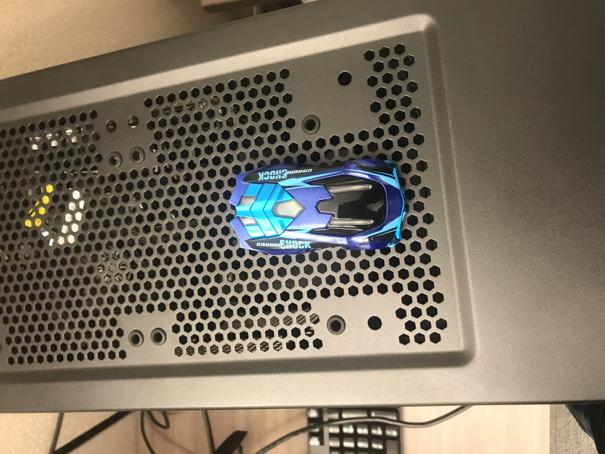Shock: (227, 157, 406, 255)
